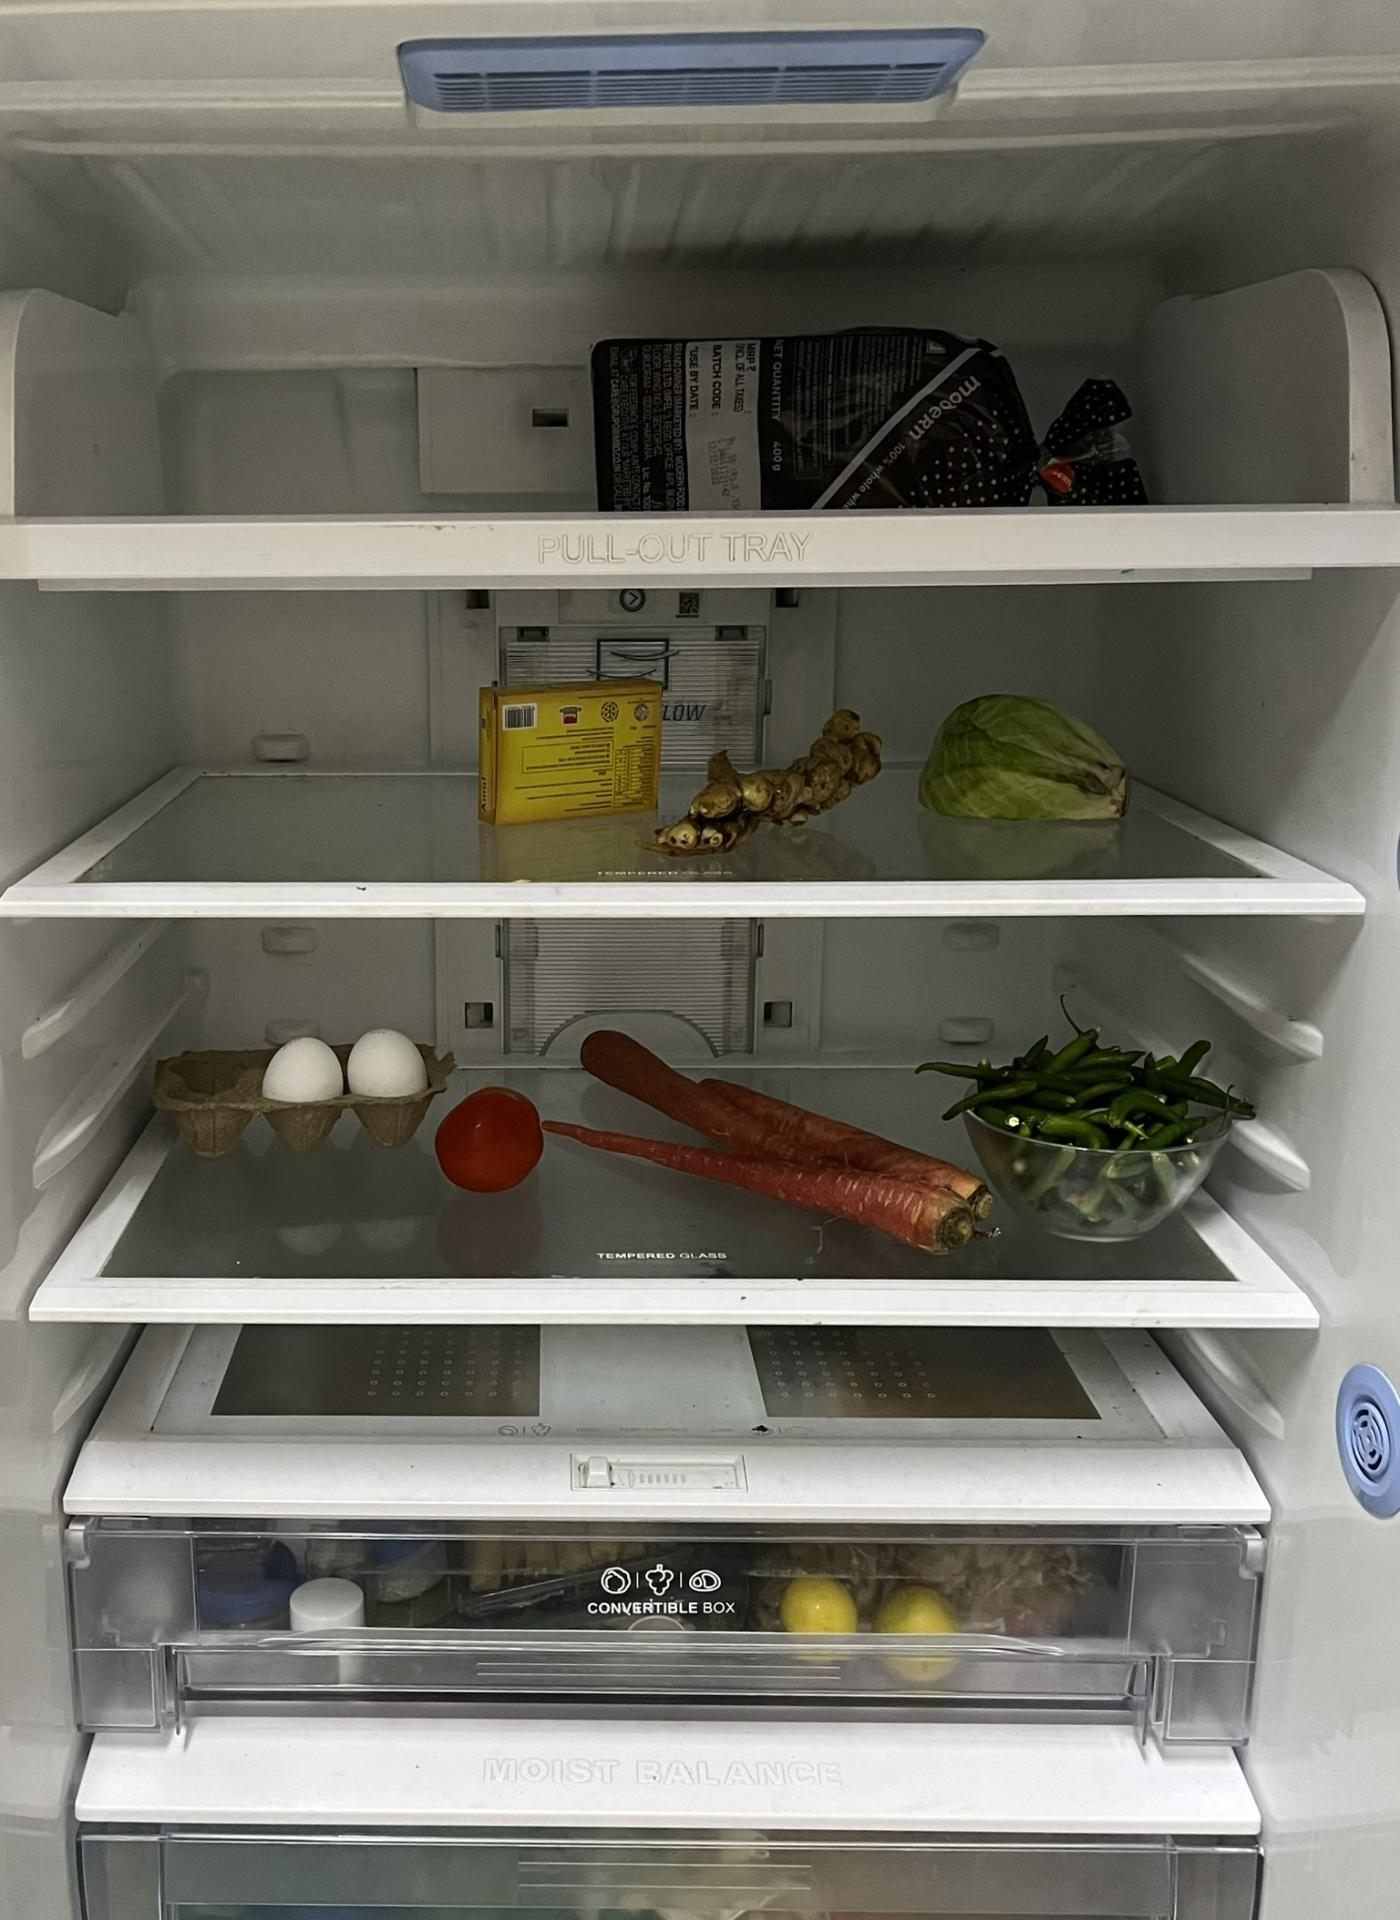bread: (589, 332, 1158, 516), (471, 669, 666, 823)
cabbage: (917, 701, 1139, 832)
carrots: (508, 1027, 990, 1267)
chillies: (965, 1032, 1242, 1215)
egg: (268, 1027, 437, 1120)
ginger: (649, 721, 892, 862)
tomato: (432, 1082, 543, 1194)
